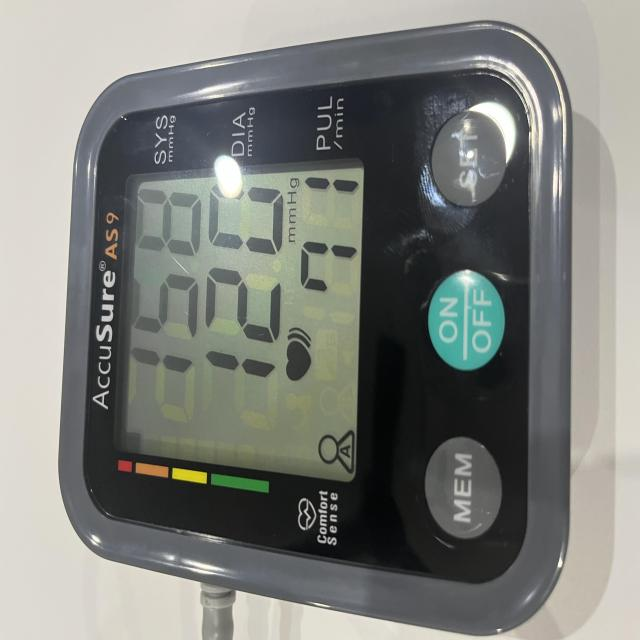bp: (55, 19, 612, 640)
